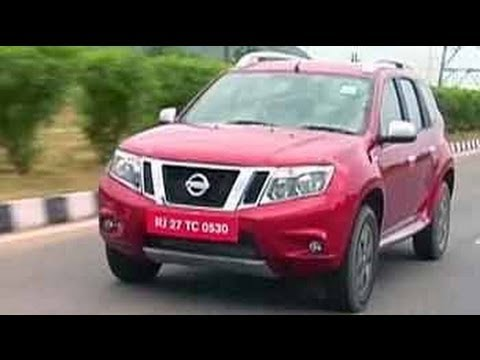number_plate: (143, 202, 243, 248)
